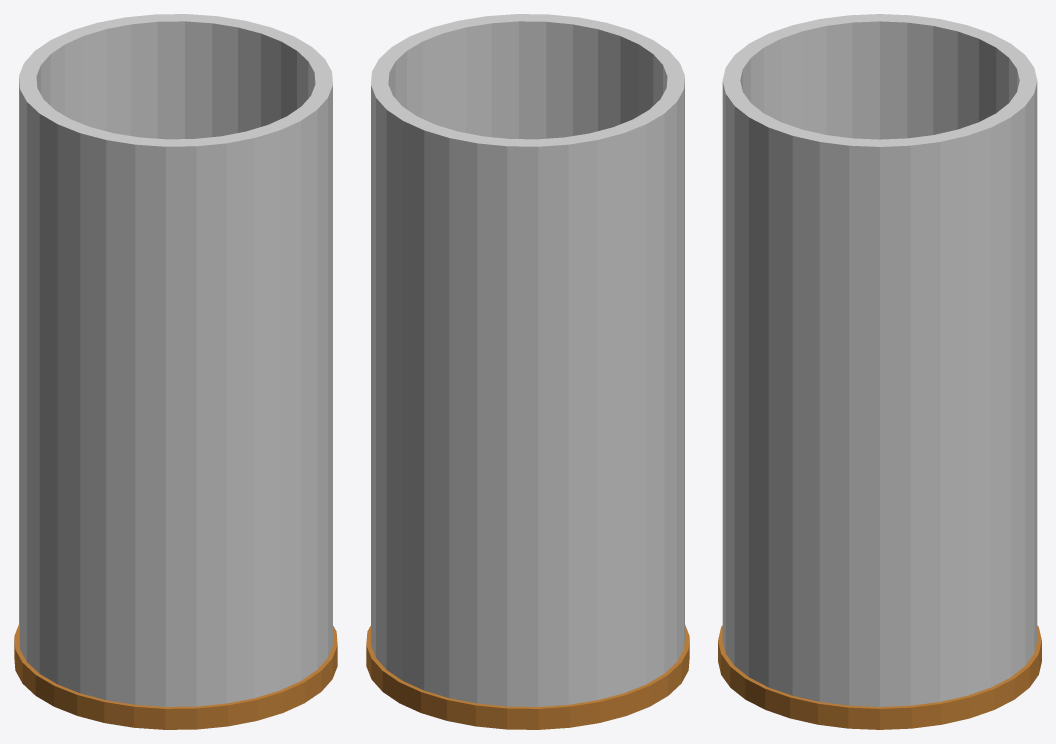
Rendered from Sticker Tube.fbx.
3 views of the same model, side by side, from view 1: azimuth 30°, elevation 25°; view 2: azimuth 150°, elevation 25°; view 3: azimuth 270°, elevation 25° (orthographic).
Visible parts, largest first — view 1: Sticker Tube; view 2: Sticker Tube; view 3: Sticker Tube.
Boxes of the visible parts, x1=… form: Sticker Tube: x1=14, y1=14, x2=337, y2=729; Sticker Tube: x1=366, y1=14, x2=689, y2=729; Sticker Tube: x1=718, y1=14, x2=1041, y2=729.
Size of the model in its own units: 40.2 by 79.55 by 40.2.
